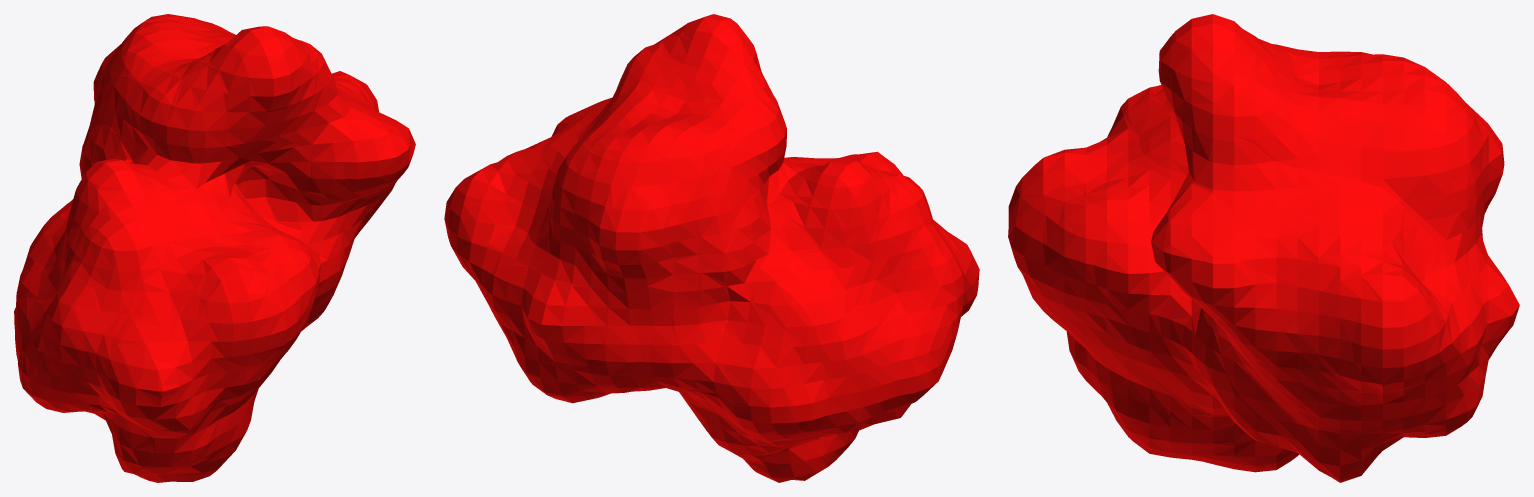
The model's file is rfaG_coarse.dae.
3 renders of one model, left to right at view 1: azimuth 30°, elevation 25°; view 2: azimuth 150°, elevation 25°; view 3: azimuth 270°, elevation 25°, orthographic. The views are drawn at different scales.
Visible parts, largest first — view 1: rfaG; view 2: rfaG; view 3: rfaG.
Part boxes in pixels (left/top/right/bottom): rfaG: left=14, top=14, right=415, bottom=482; rfaG: left=444, top=14, right=979, bottom=482; rfaG: left=1008, top=14, right=1519, bottom=482.
Size of the model in its own units: 66.13 by 64.03 by 59.04.
